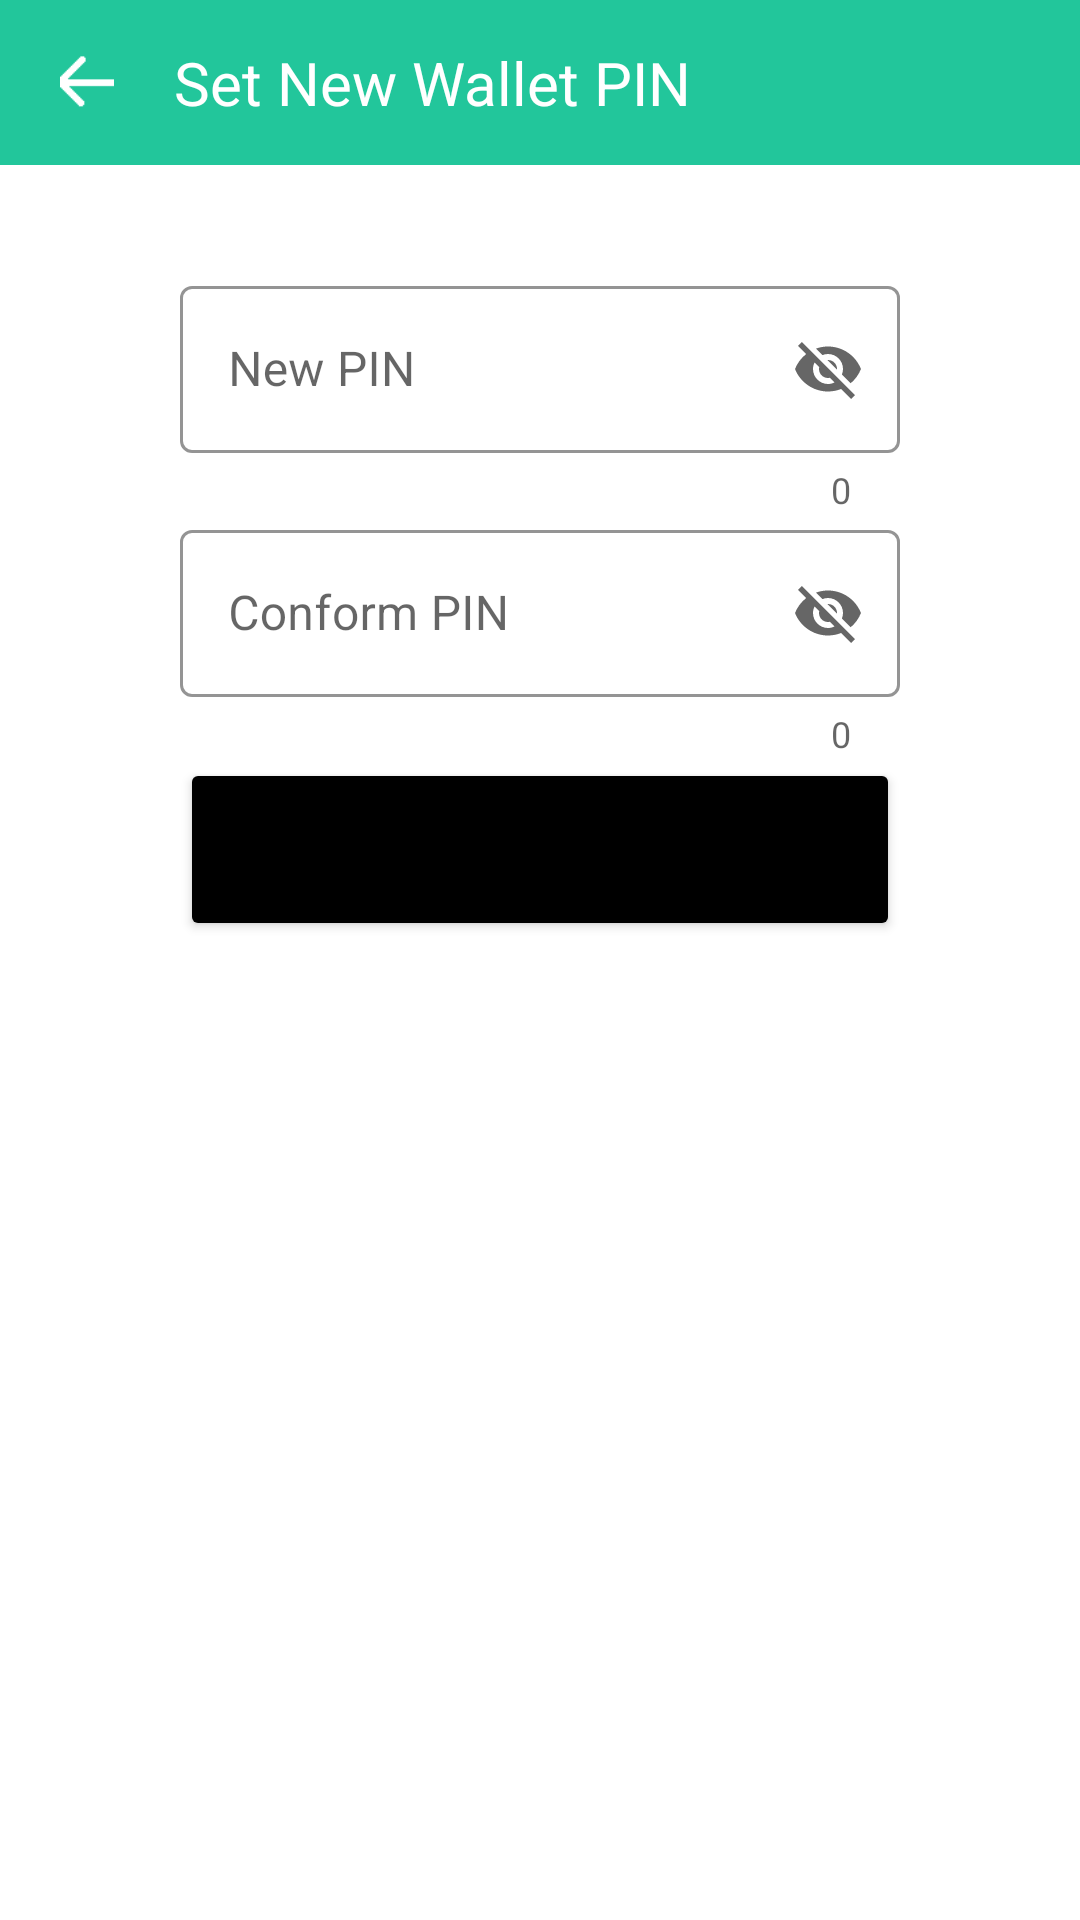

Screen size 1080 × 1920. Icon name, then its box in pixels as (x1, y1, x2, y2):
arrow: (60, 56, 114, 107)
